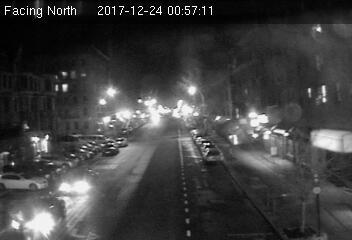car: (59, 167, 98, 193), (203, 146, 223, 163), (102, 143, 117, 155), (116, 137, 130, 148)
